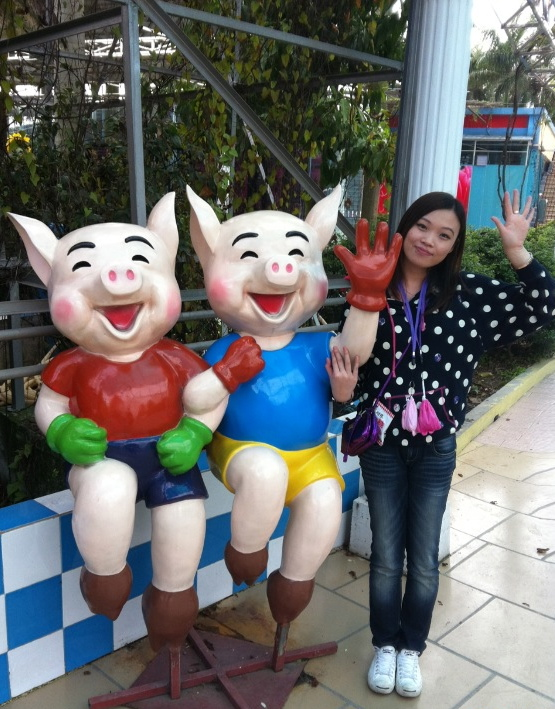handsup: (325, 156, 547, 699)
